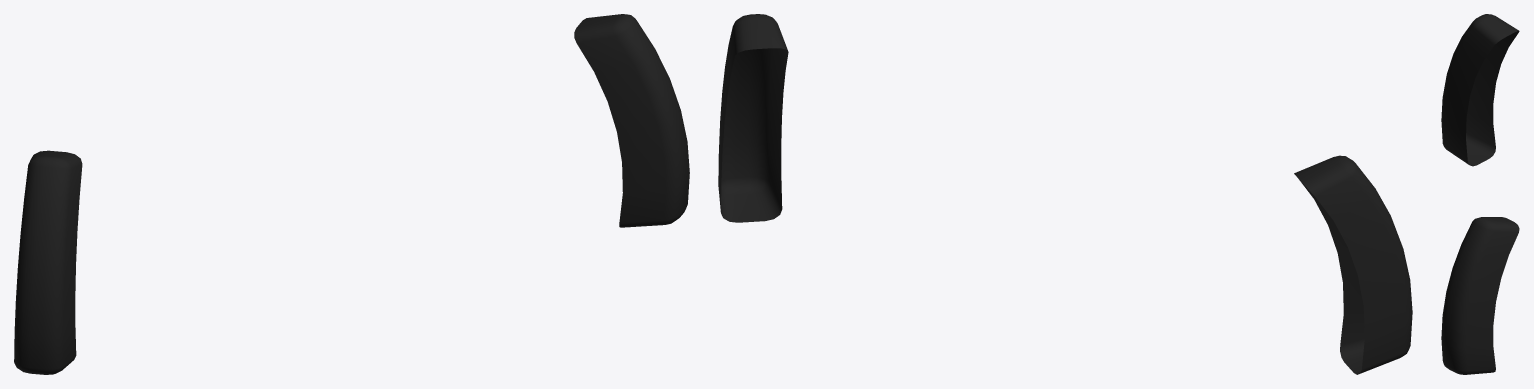
File: Eye04.fbx
The picture shows the model from 3 angles, left to right: view 1: azimuth 30°, elevation 25°; view 2: azimuth 150°, elevation 25°; view 3: azimuth 270°, elevation 25°; orthographic projection. The views are drawn at different scales.
Visible parts, largest first — view 1: Eye04; view 2: Eye04; view 3: Eye04.
Part boxes in pixels (box(x1,y1,x2,y2)): Eye04: box(14, 14, 689, 374); Eye04: box(718, 14, 1412, 374); Eye04: box(1441, 14, 1519, 374).
Bounding box in the file's own units: 33.71 × 4.68 × 9.72.
1 material, 1 textured.
